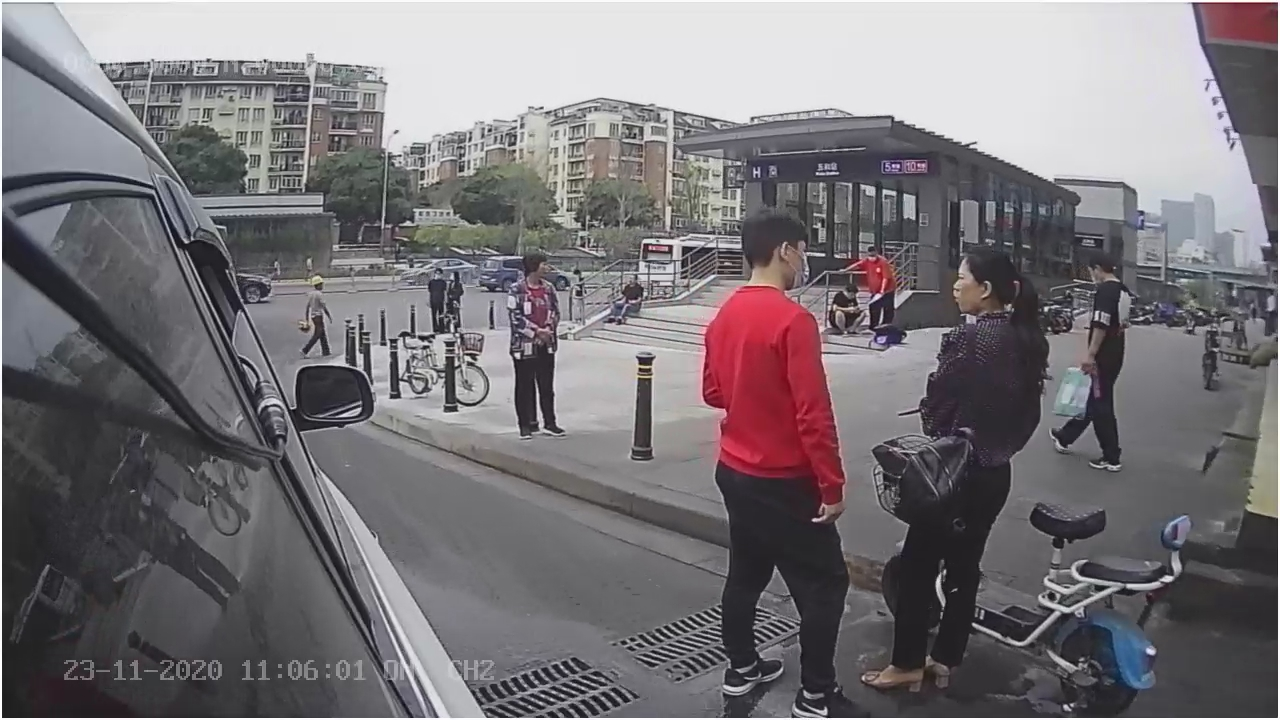person: (690, 213, 845, 701)
